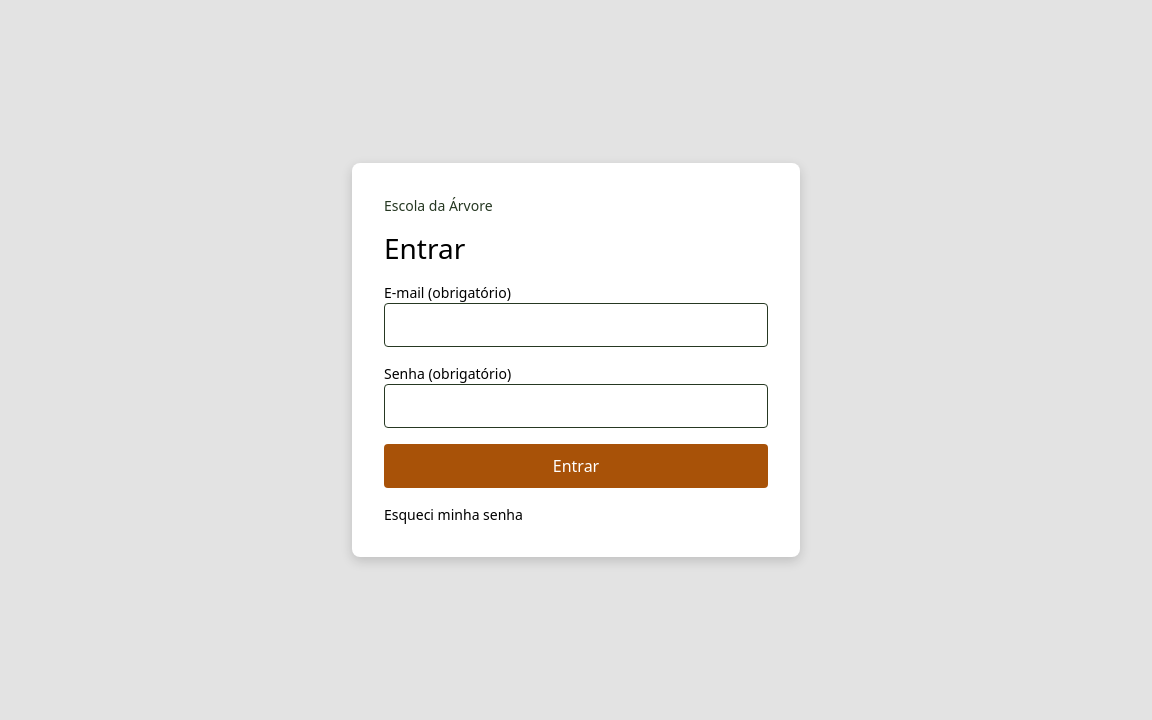
Scenario: US1 — entrada e painel › credencial válida chega ao painel da visão ativa com o menu da visão, não a união dos perfis
Type "admin@escola.local" into the field labelled "E-mail (obrigatório)".
click(576, 325); type("admin@escola.local")  # box top-left (384, 303), bottom-right (768, 347)
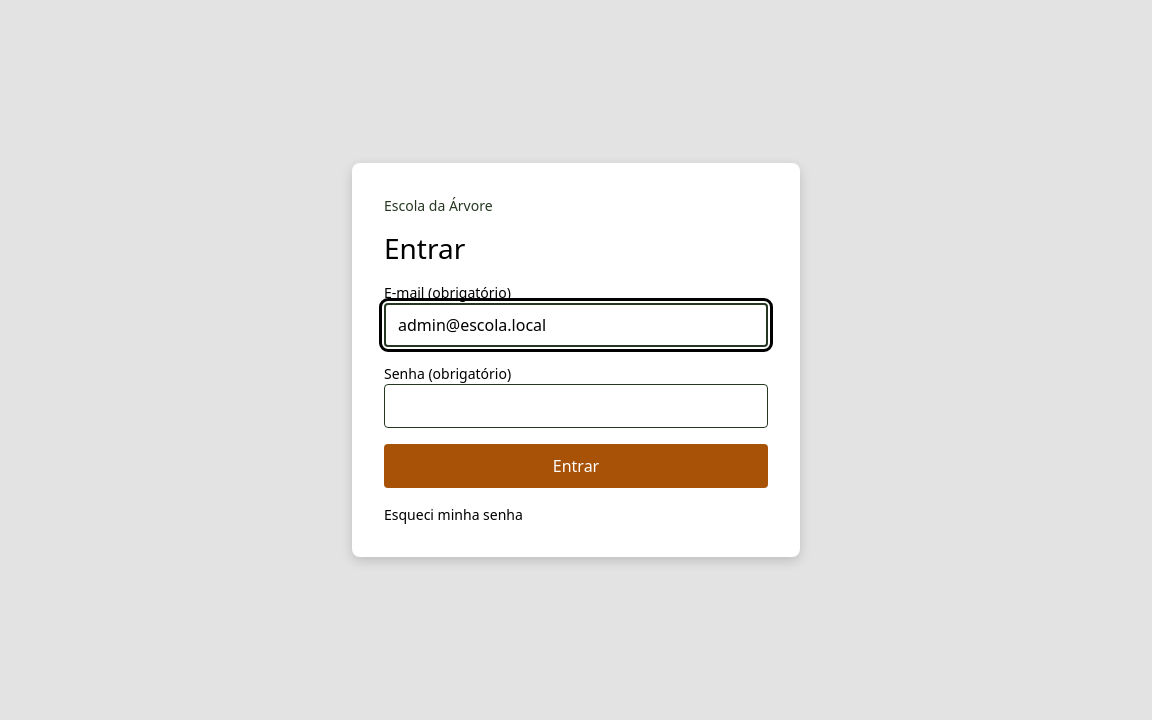
Type "senha123" into the password field labelled "Senha (obrigatório)".
click(576, 406); type("senha123")  # box top-left (384, 384), bottom-right (768, 428)
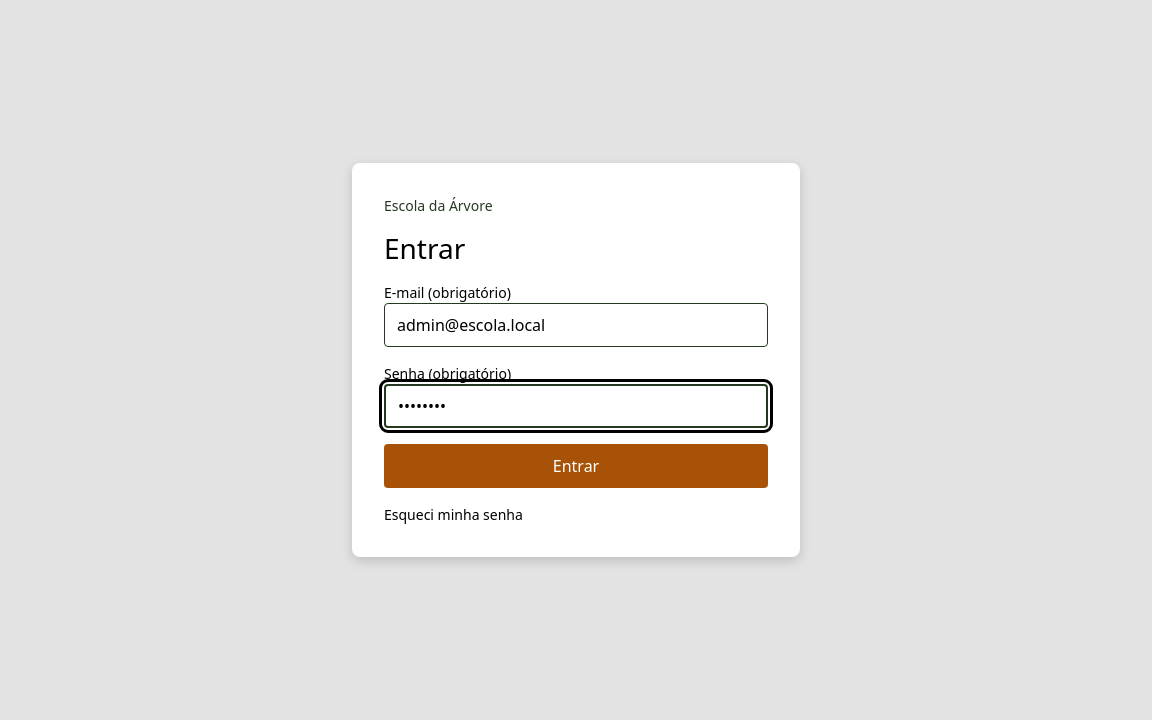
Click the button "Entrar".
click(576, 466)  # box top-left (384, 444), bottom-right (768, 488)
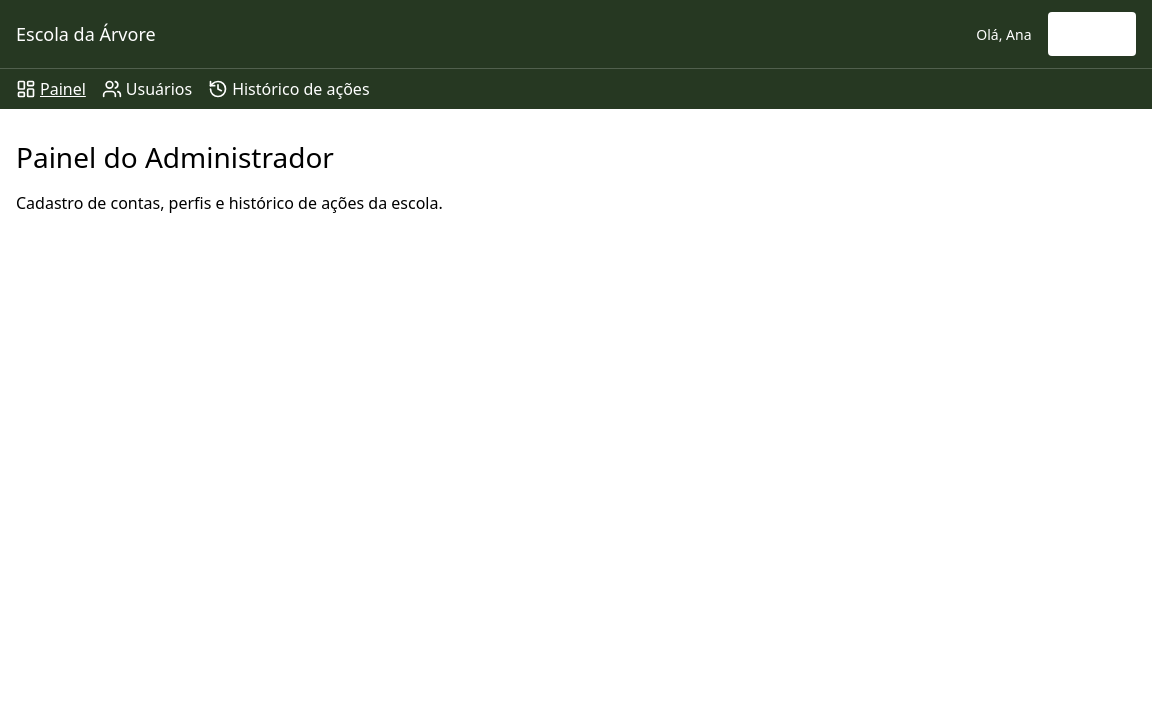
Expected: the heading "Painel do Administrador" is shown, top-left (16, 138), bottom-right (334, 176)
Expected: the link "Usuários" is shown, top-left (102, 78), bottom-right (192, 100)
Expected: the link "Histórico de ações" is shown, top-left (208, 78), bottom-right (370, 100)
